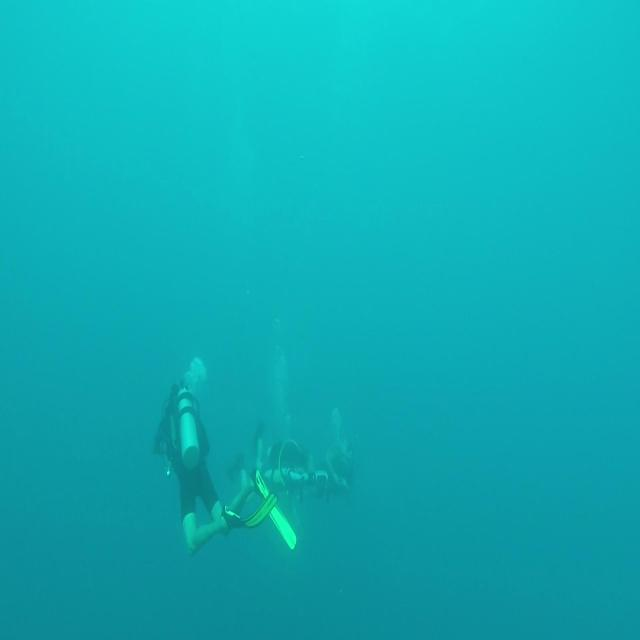human: (153, 377, 231, 555), (223, 420, 329, 531), (322, 405, 356, 502)
